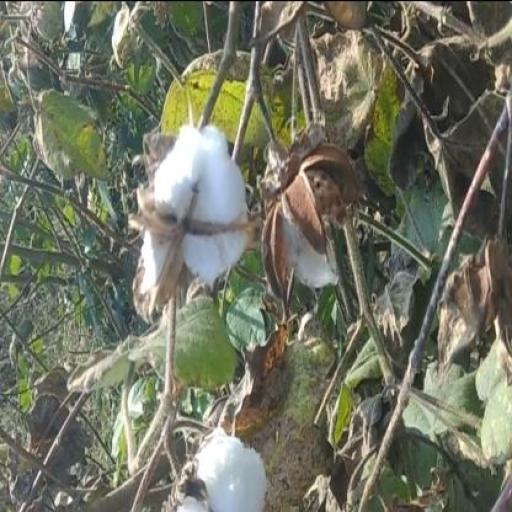cotton_ready: (130, 99, 266, 315)
